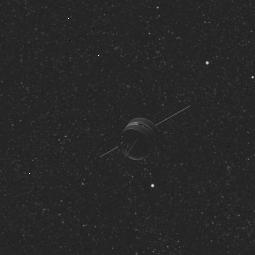double_start: (97, 103, 170, 175)
